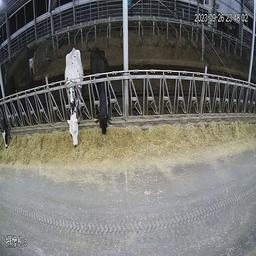cow: (90, 45, 112, 139), (64, 46, 82, 146), (1, 68, 22, 145)
